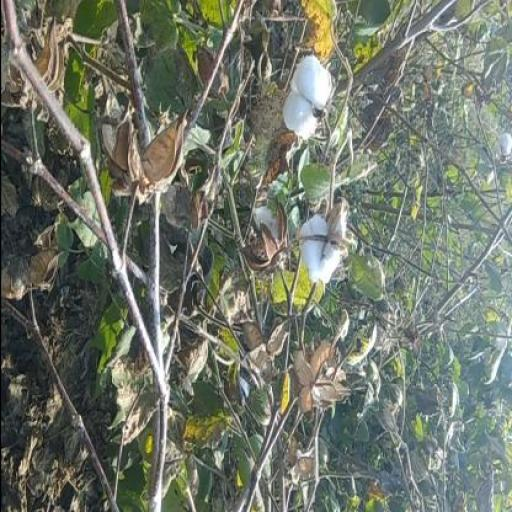cotton_ready: (255, 33, 343, 171), (276, 192, 353, 310)
